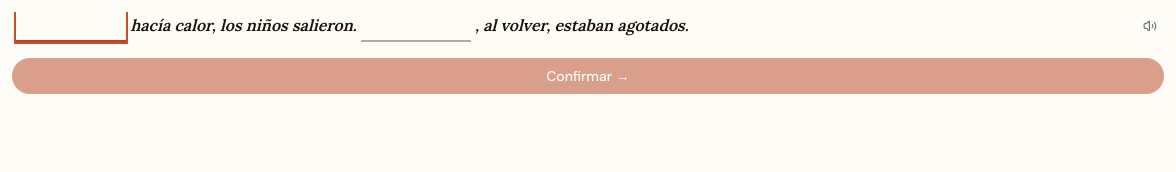
Test: GapFill — multi-blank mode › Submit is disabled until ALL blanks are filled
Expected: the button "Confirmar →" is disabled, [12, 58, 1164, 94]
// Fill only first blank — still disabled
Type "Aunque" into the field named "Hueco 1" at (71, 27), box [16, 12, 126, 42]
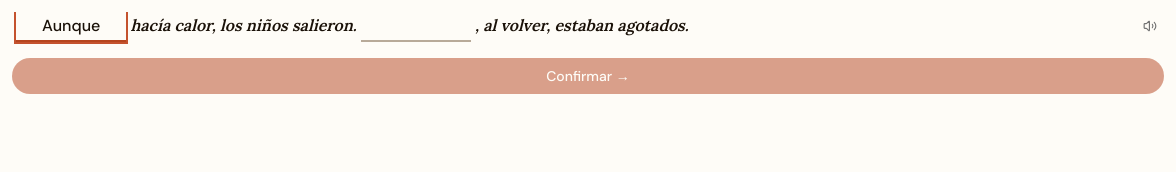
Expected: the button "Confirmar →" is disabled, [12, 58, 1164, 94]
// Fill second blank — now enabled
Type "Sin embargo" into the field named "Hueco 2" at (416, 27), box [361, 12, 471, 42]
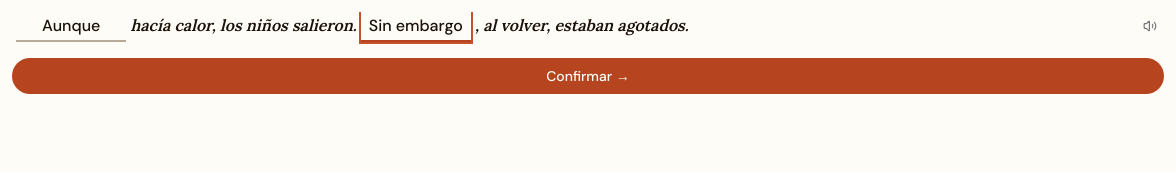
Now the button "Confirmar →" is enabled, box [12, 58, 1164, 94]
